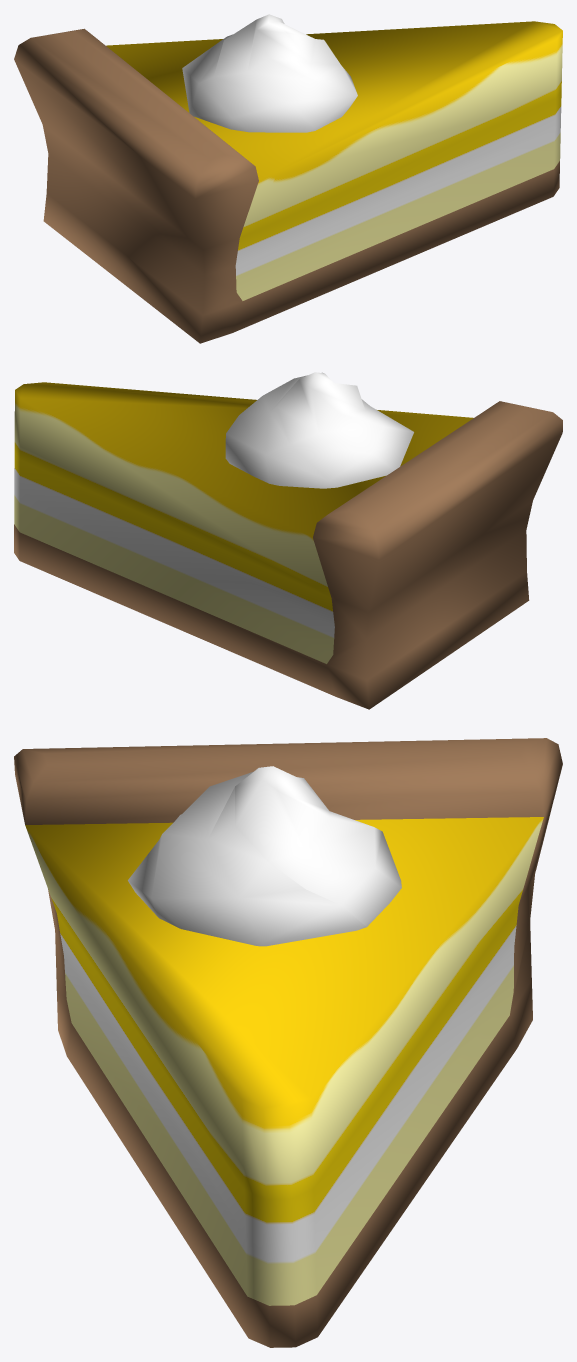
Rendered from yellow_cakepiece.glb.
3 renders of one model, top to bottom at view 1: azimuth 30°, elevation 25°; view 2: azimuth 150°, elevation 25°; view 3: azimuth 270°, elevation 25°, orthographic. The views are drawn at different scales.
Visible parts, largest first — view 1: Yellow_Cakepiece; view 2: Yellow_Cakepiece; view 3: Yellow_Cakepiece.
Boxes of the visible parts, x1,y1,x2,y2 form: Yellow_Cakepiece: [14, 14, 562, 343]; Yellow_Cakepiece: [14, 372, 562, 709]; Yellow_Cakepiece: [14, 738, 562, 1347].
Size of the model in its own units: 0.6805 by 0.3524 by 0.4756.
Materials: 1 (1 with a texture image).
